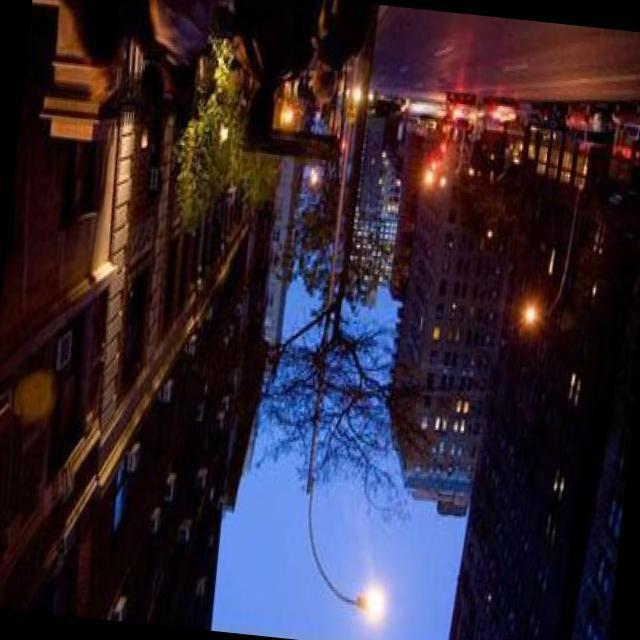on: (313, 540, 428, 640), (400, 136, 486, 224), (500, 283, 570, 344)
